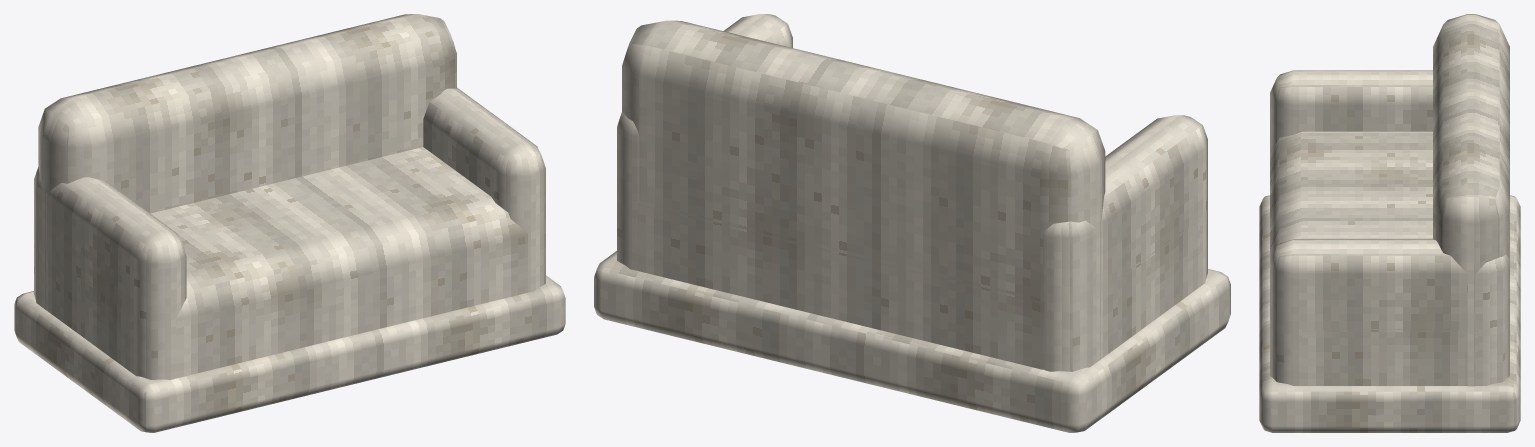
The model's file is sheetedFurniture.glb.
3 views of the same model, side by side, from view 1: azimuth 30°, elevation 25°; view 2: azimuth 150°, elevation 25°; view 3: azimuth 270°, elevation 25° (orthographic). The views are drawn at different scales.
Visible parts, largest first — view 1: sheetedFurniture; view 2: sheetedFurniture; view 3: sheetedFurniture.
Part boxes in pixels (box(x1,y1,x2,y2)): sheetedFurniture: box(14, 14, 565, 432); sheetedFurniture: box(594, 14, 1230, 432); sheetedFurniture: box(1259, 14, 1520, 432).
Bounding box in the file's own units: 1.78 × 1 × 0.9812.
Materials: 1 (1 with a texture image).
